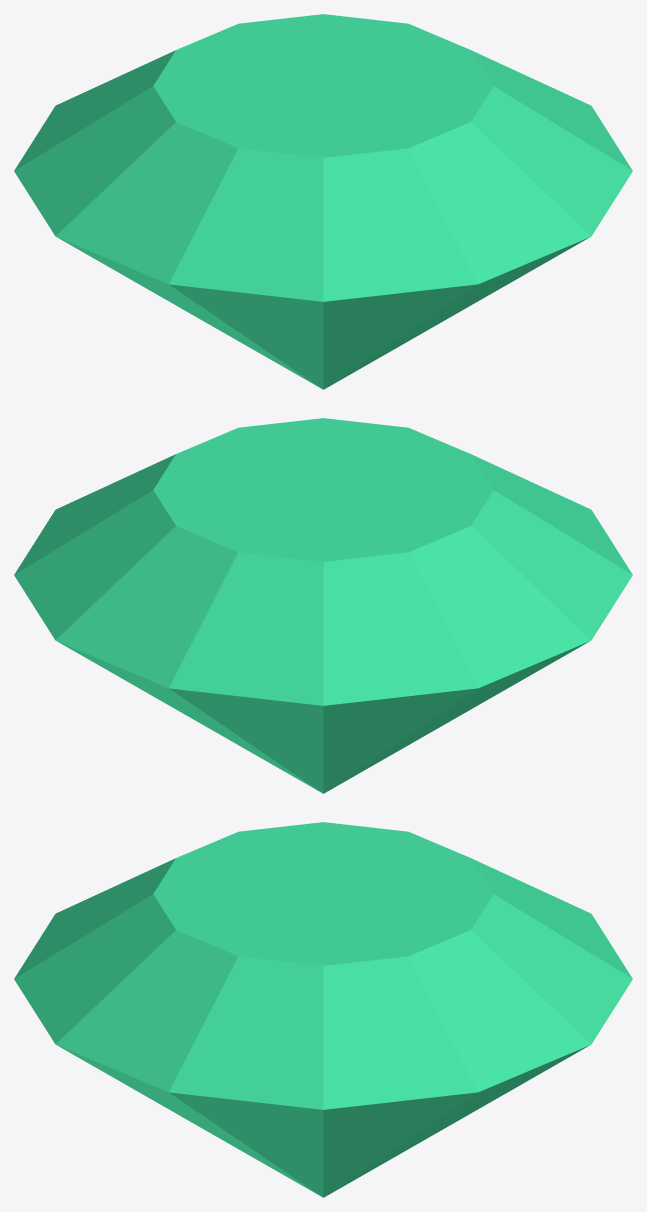
File: green-gem.glb
3 renders of one model, top to bottom at view 1: azimuth 30°, elevation 25°; view 2: azimuth 150°, elevation 25°; view 3: azimuth 270°, elevation 25°, orthographic.
Visible parts, largest first — view 1: 綠寶石; view 2: 綠寶石; view 3: 綠寶石.
Boxes of the visible parts, box(x1,y1,x2,y2) form: 綠寶石: box(14, 14, 632, 389); 綠寶石: box(14, 418, 632, 793); 綠寶石: box(14, 822, 632, 1197).
Size of the model in its own units: 0.24 by 0.13 by 0.24.
